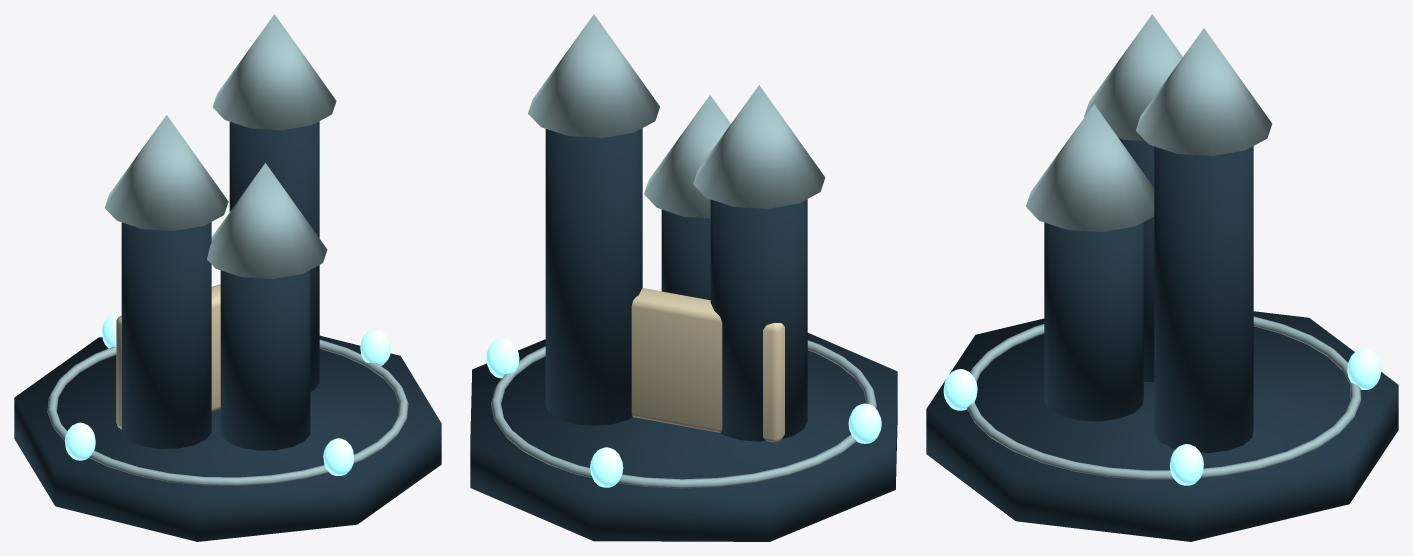
3 views of the same model, side by side, from view 1: azimuth 30°, elevation 25°; view 2: azimuth 150°, elevation 25°; view 3: azimuth 270°, elevation 25° (orthographic). The views are drawn at different scales.
Parts seen in each view (by area): view 1: Hexagonal plinth, Tallinn tower, Tallinn tower.002, Gothic roof, Gothic roof.001, Gothic roof.002, Tallinn tower.001, Inlaid rim, Medieval curtain, Garden inlay.002, Garden inlay.003, Garden inlay; view 2: Hexagonal plinth, Tallinn tower.001, Tallinn tower, Medieval curtain, Gothic roof.001, Gothic roof, Inlaid rim, Gothic roof.002, Tallinn tower.002, Garden inlay.001, Garden inlay.002, Garden inlay; view 3: Hexagonal plinth, Tallinn tower.001, Tallinn tower.002, Gothic roof.001, Gothic roof.002, Inlaid rim, Gothic roof, Tallinn tower, Garden inlay, Garden inlay.003, Garden inlay.001.
Boxes of the visible parts, left/top/right/bottom form: Hexagonal plinth: left=14, top=335, right=441, bottom=541; Tallinn tower: left=121, top=222, right=211, bottom=448; Tallinn tower.002: left=220, top=270, right=310, bottom=450; Gothic roof: left=104, top=115, right=228, bottom=230; Gothic roof.001: left=212, top=14, right=336, bottom=130; Gothic roof.002: left=207, top=163, right=327, bottom=278; Tallinn tower.001: left=229, top=121, right=319, bottom=391; Inlaid rim: left=47, top=339, right=408, bottom=486; Medieval curtain: left=116, top=284, right=220, bottom=429; Garden inlay.002: left=65, top=422, right=95, bottom=460; Garden inlay.003: left=323, top=438, right=354, bottom=475; Garden inlay: left=360, top=329, right=390, bottom=365; Hexagonal plinth: left=470, top=333, right=897, bottom=541; Tallinn tower.001: left=545, top=128, right=642, bottom=425; Tallinn tower: left=710, top=199, right=807, bottom=441; Medieval curtain: left=631, top=288, right=784, bottom=442; Gothic roof.001: left=528, top=14, right=659, bottom=137; Gothic roof: left=693, top=85, right=825, bottom=208; Inlaid rim: left=491, top=340, right=876, bottom=488; Gothic roof.002: left=644, top=95, right=730, bottom=218; Tallinn tower.002: left=661, top=209, right=710, bottom=299; Garden inlay.001: left=590, top=447, right=623, bottom=487; Garden inlay.002: left=848, top=403, right=881, bottom=443; Garden inlay: left=486, top=338, right=519, bottom=378; Hexagonal plinth: left=926, top=311, right=1398, bottom=541; Tallinn tower.001: left=1154, top=146, right=1253, bottom=452; Tallinn tower.002: left=1044, top=222, right=1143, bottom=421; Gothic roof.001: left=1136, top=28, right=1272, bottom=155; Gothic roof.002: left=1026, top=104, right=1154, bottom=231; Inlaid rim: left=967, top=316, right=1361, bottom=479; Gothic roof: left=1084, top=14, right=1182, bottom=141; Tallinn tower: left=1118, top=138, right=1154, bottom=382; Garden inlay: left=1169, top=444, right=1203, bottom=485; Garden inlay.003: left=943, top=369, right=977, bottom=410; Garden inlay.001: left=1347, top=348, right=1381, bottom=389.
Size of the model in its own units: 1.51 by 1.58 by 1.51.
